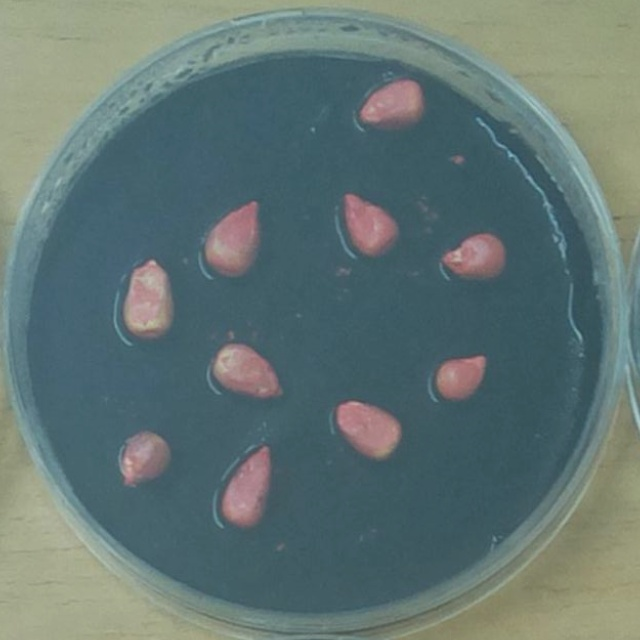Zea mays: (196, 191, 270, 288), (210, 435, 279, 536), (203, 334, 293, 410), (114, 251, 182, 348), (328, 393, 410, 470), (333, 183, 407, 266), (350, 73, 432, 139), (435, 227, 514, 288), (112, 424, 179, 495), (426, 347, 495, 410)
